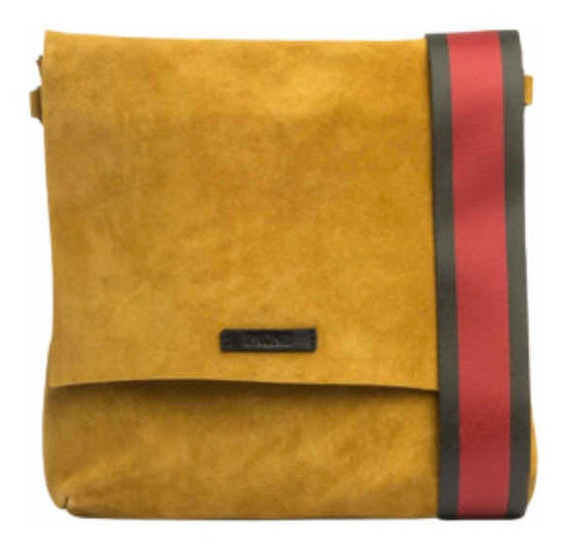cartera: (26, 27, 540, 521)
